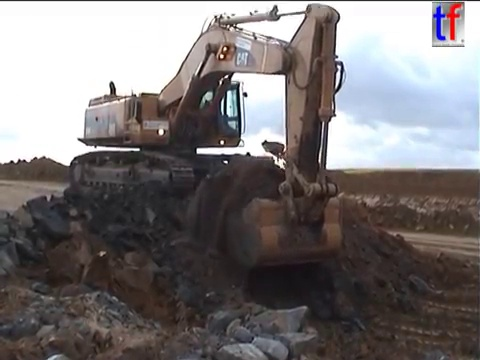excavator: (65, 1, 350, 271)
wheel loader: (259, 138, 329, 178)
